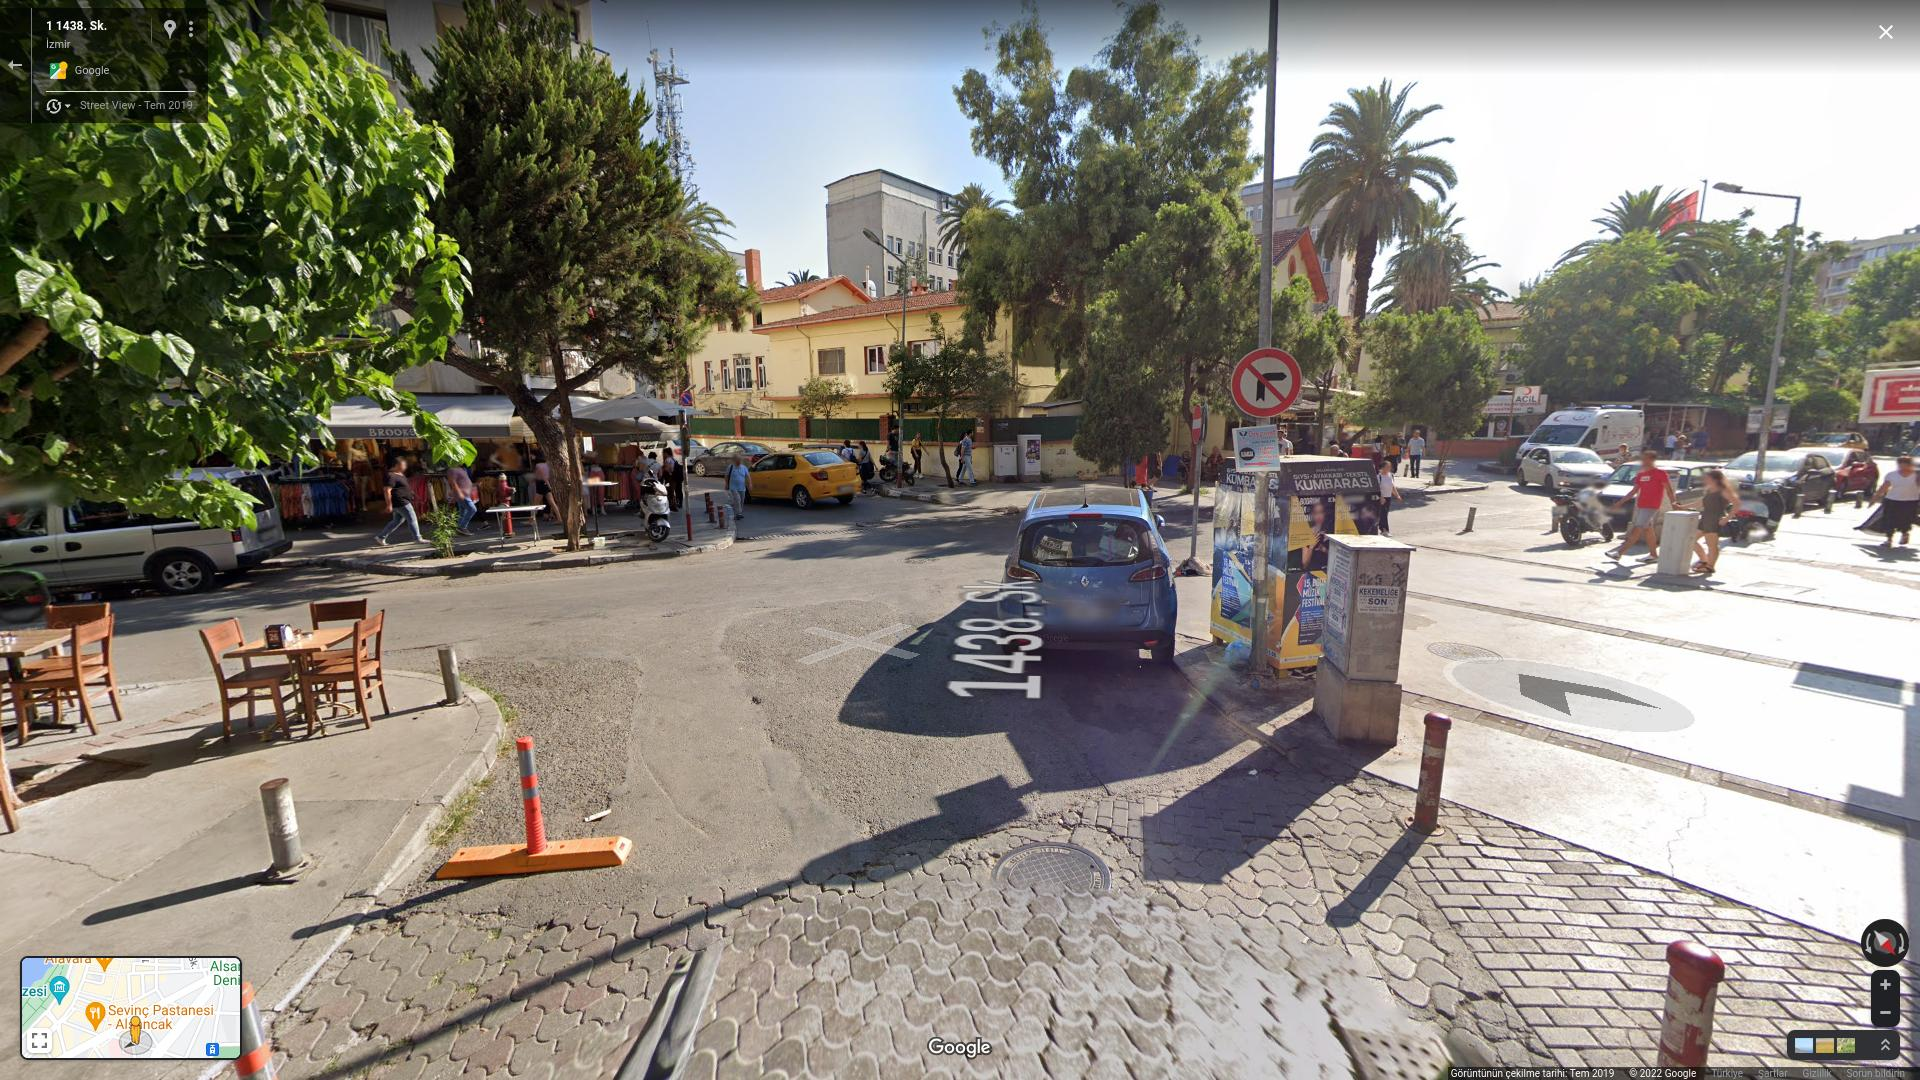rightturnsareforbidden: (1232, 349, 1300, 411)
